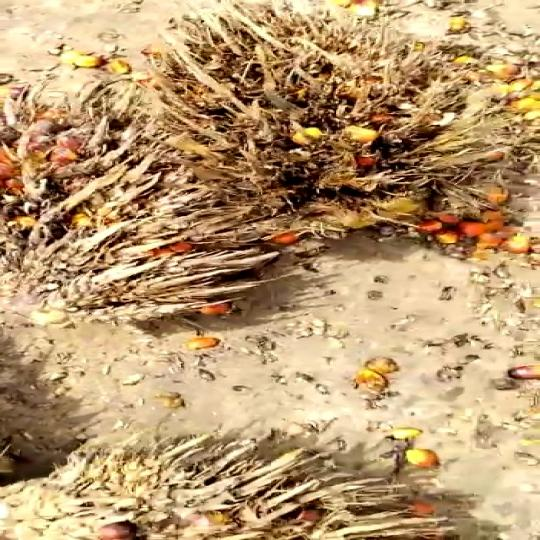terlalu masak: (125, 11, 540, 237)
